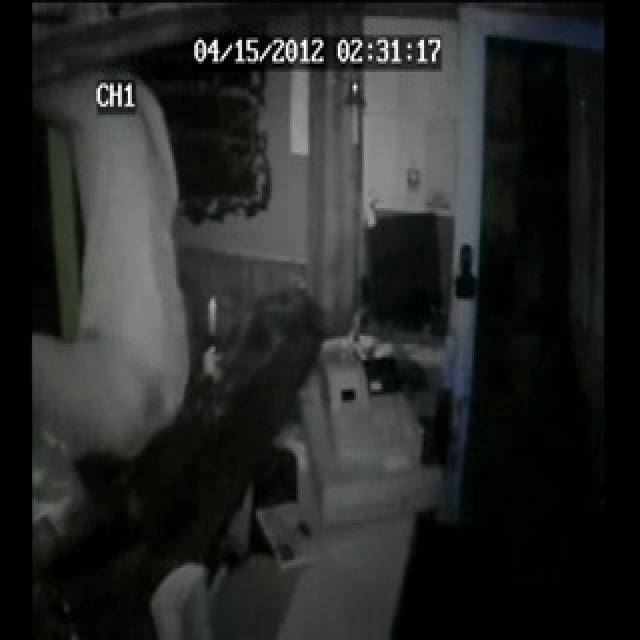thief: (42, 41, 148, 276)
